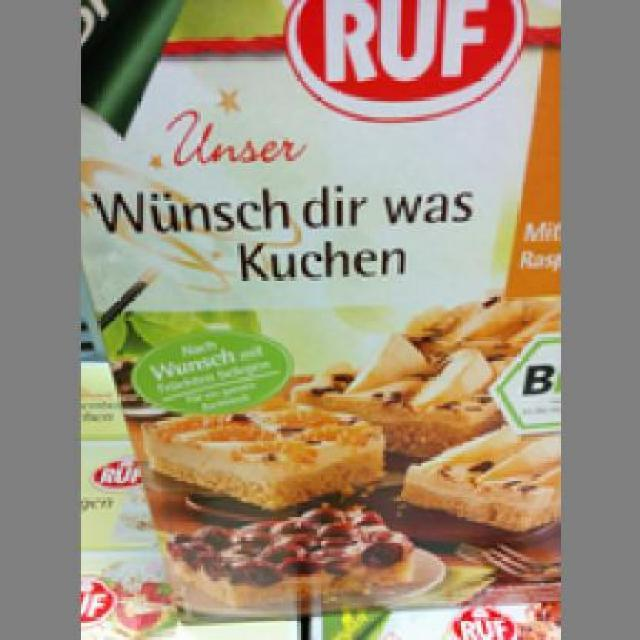Cake: (77, 0, 554, 626)
